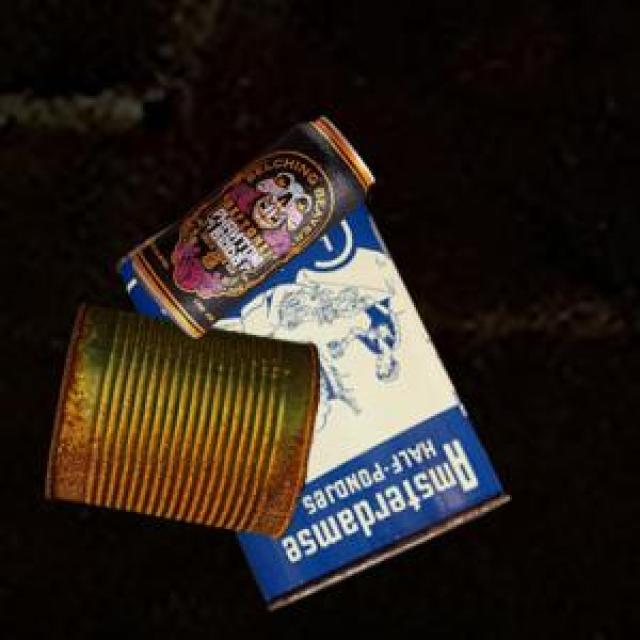Can: (114, 199, 507, 607), (44, 300, 317, 534), (129, 114, 370, 334)
